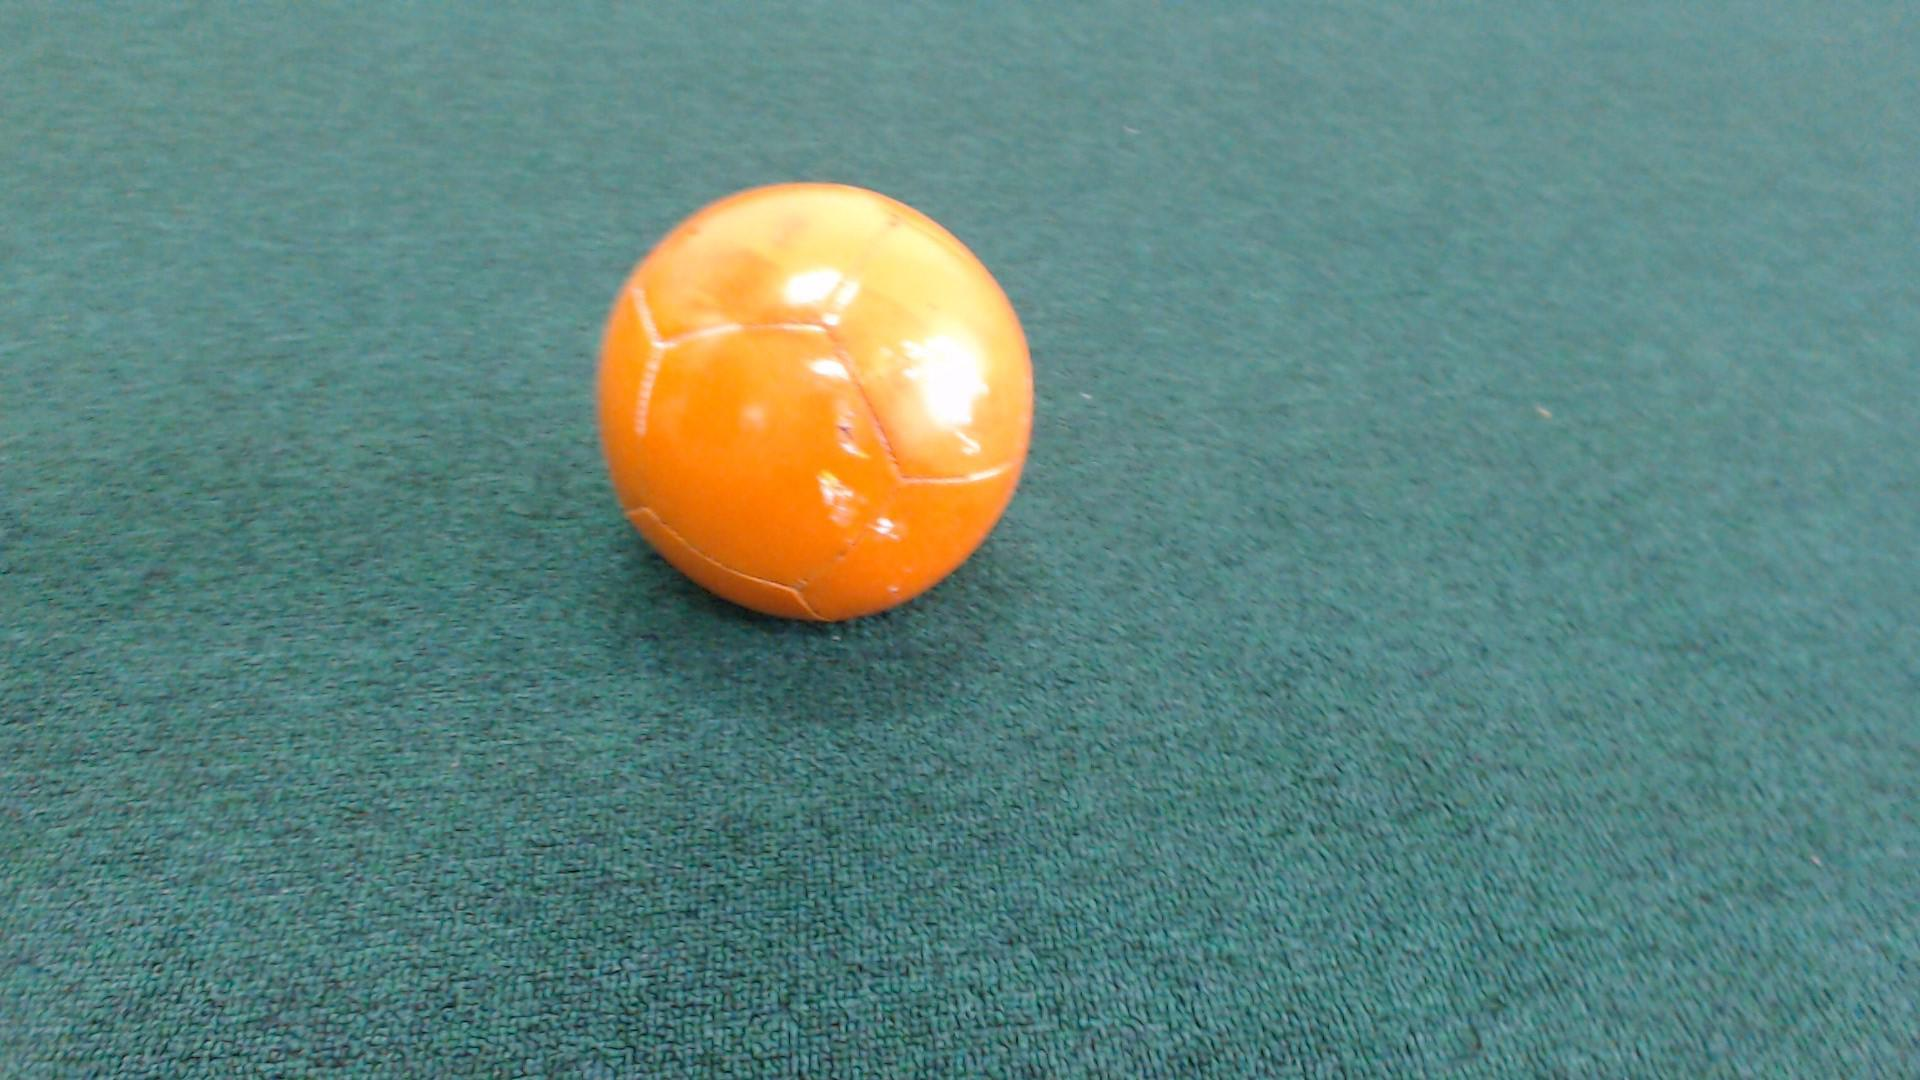bola: (566, 165, 1073, 641)
